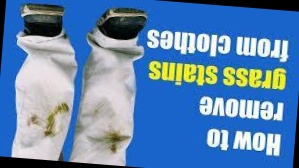earth: (104, 133, 122, 154), (46, 113, 57, 138), (27, 115, 40, 127), (54, 104, 69, 114)
